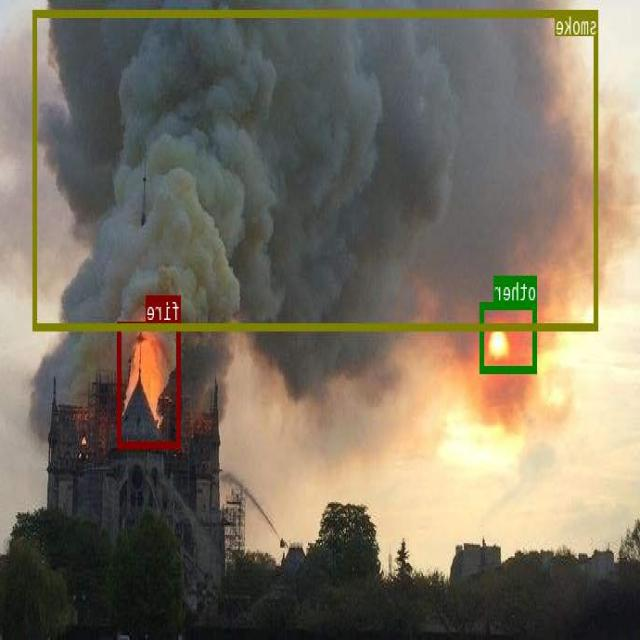fire: (119, 321, 181, 447)
other: (480, 301, 538, 372)
smoke: (34, 10, 599, 328)
